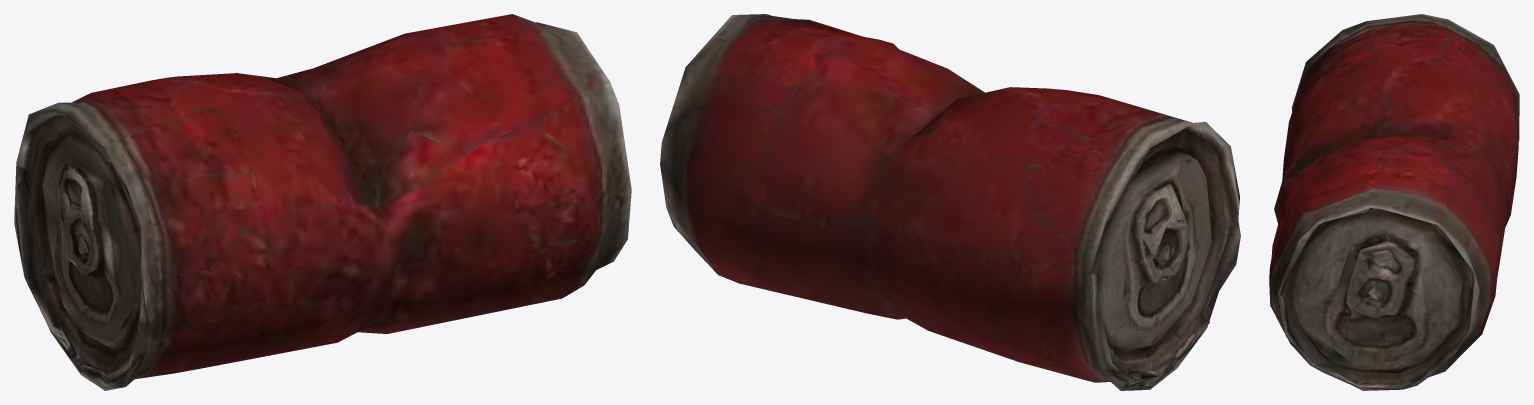
The model's file is trash0.glb.
3 views of the same model, side by side, from view 1: azimuth 30°, elevation 25°; view 2: azimuth 150°, elevation 25°; view 3: azimuth 270°, elevation 25° (orthographic). The views are drawn at different scales.
Size of the model in its own units: 90.42 by 47.26 by 50.91.
Materials: 1 (1 with a texture image).
